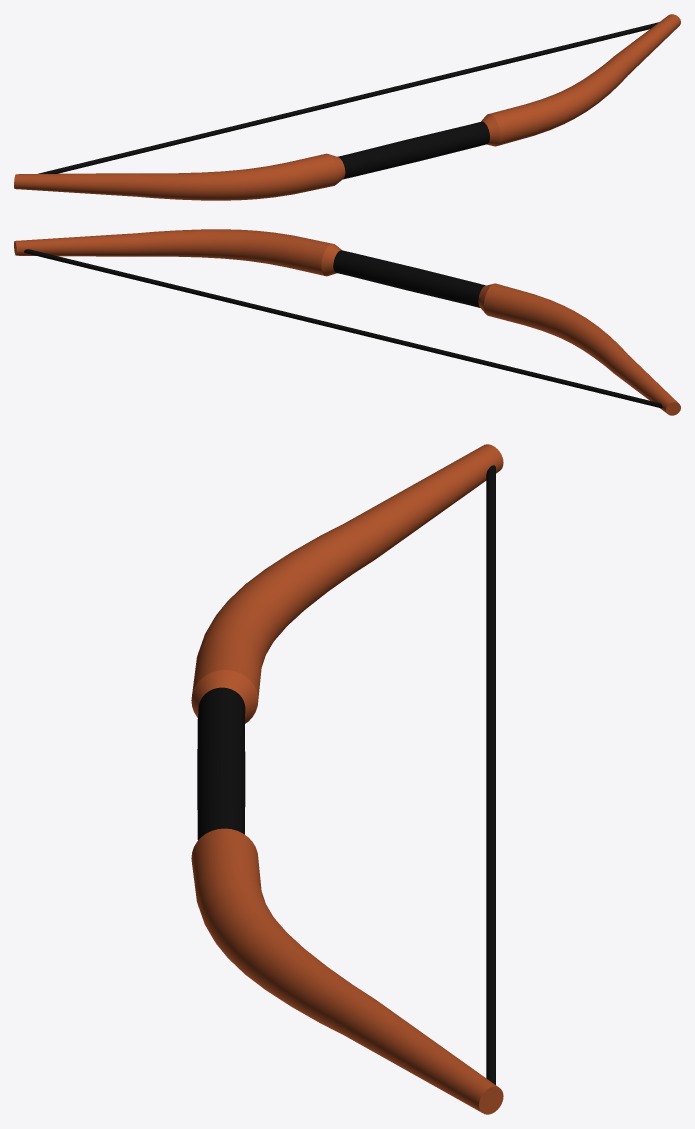
Rendered from bow.fbx.
3 views of the same model, one above another, from view 1: azimuth 30°, elevation 25°; view 2: azimuth 150°, elevation 25°; view 3: azimuth 270°, elevation 25° (orthographic). The views are drawn at different scales.
Parts seen in each view (by area): view 1: Cylinder; view 2: Cylinder; view 3: Cylinder.
Boxes of the visible parts, left/top/right/bottom form: Cylinder: left=14, top=14, right=680, bottom=200; Cylinder: left=14, top=229, right=680, bottom=415; Cylinder: left=191, top=444, right=503, bottom=1114.
Bounding box in the file's own units: 3720 × 161 × 754.
